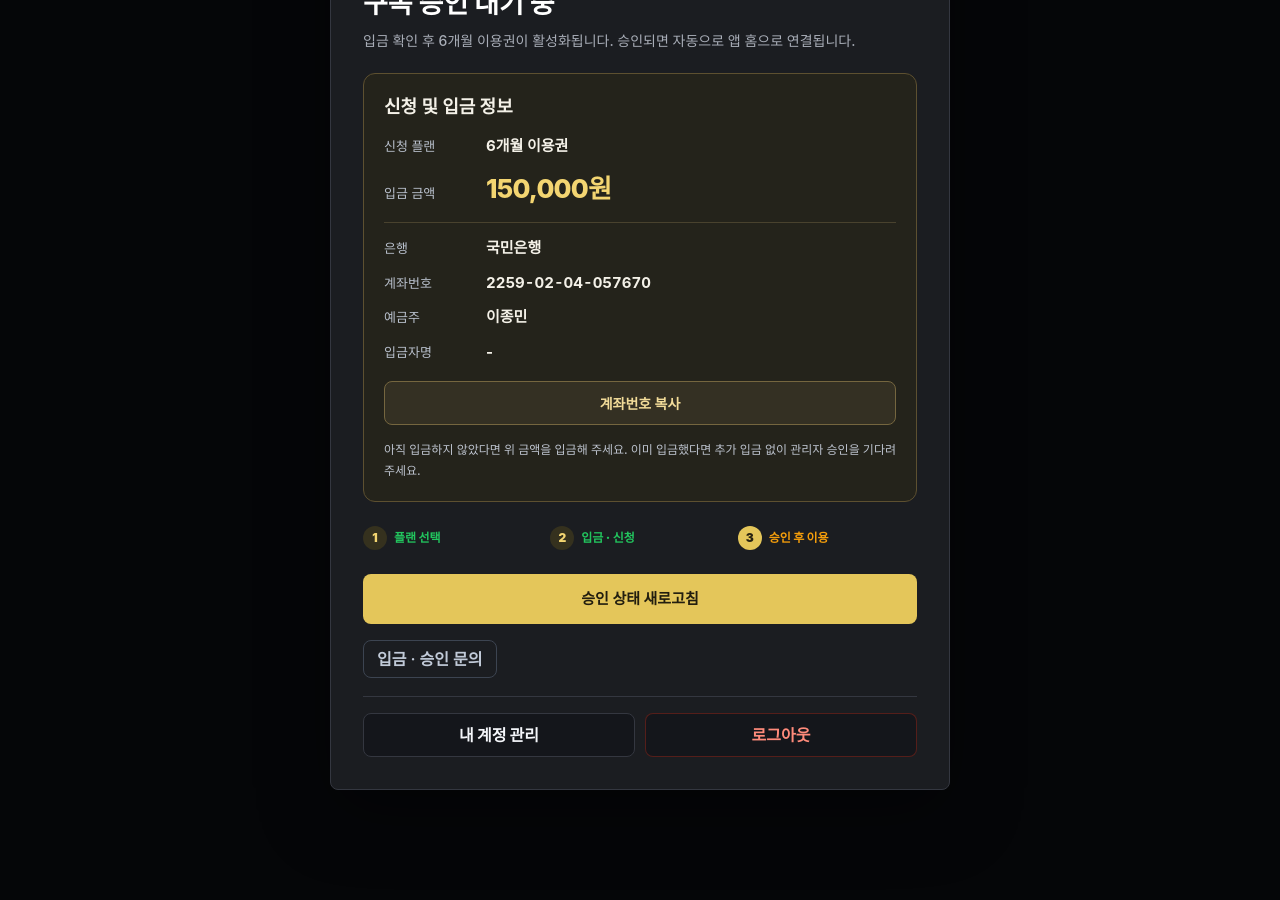
Test: subscription selection through public auth and renewal pages › opens the app after a pending six-month request is approved, instead of reopening renewal
(page scrolled)
Click the button "승인 상태 새로고침" at (640, 599), box [363,574,917,624]
(page scrolled)
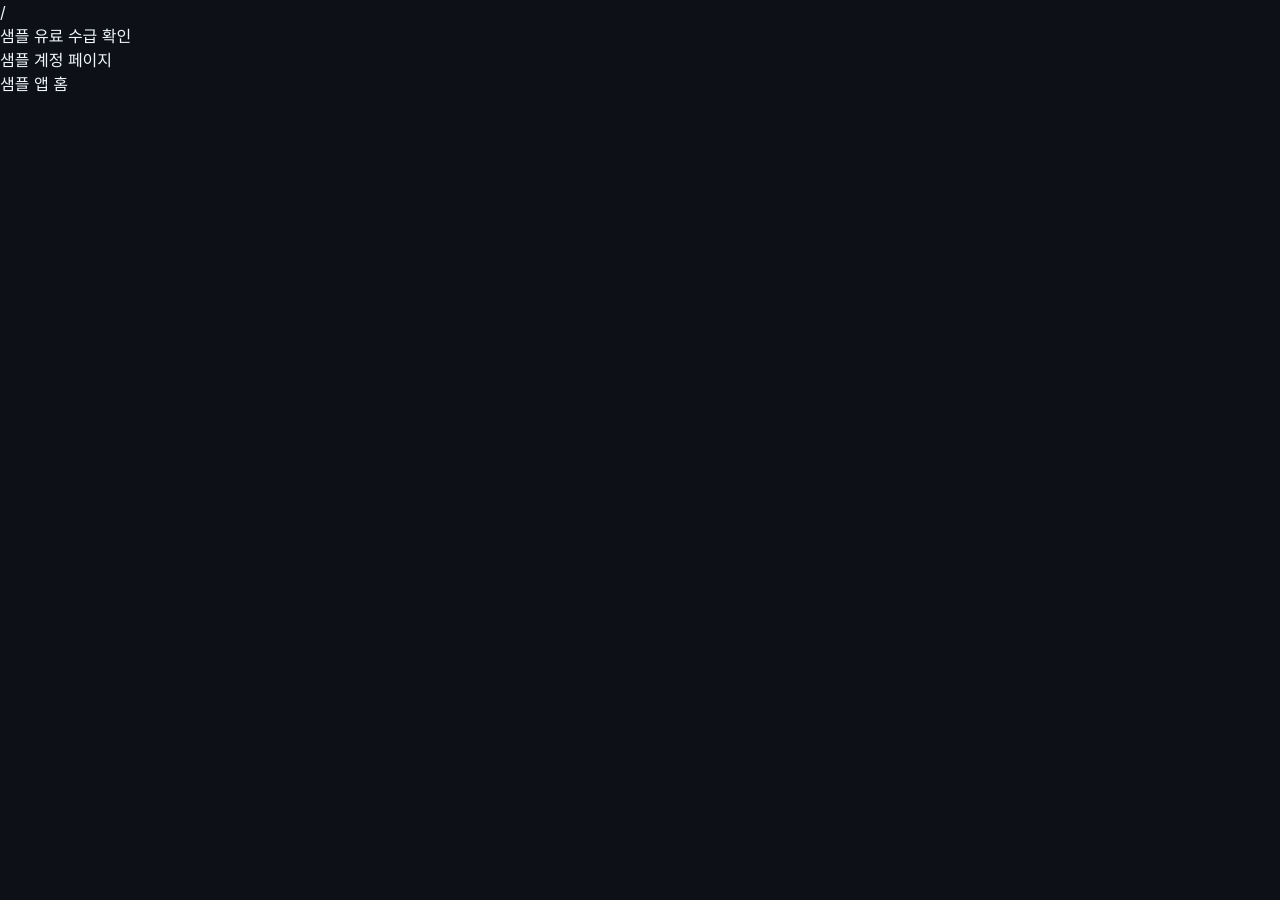
Check: the text with test id "flow-route" reads "/", box [0,2,6,22]
Check: the text "샘플 앱 홈" is shown, box [0,74,68,94]
